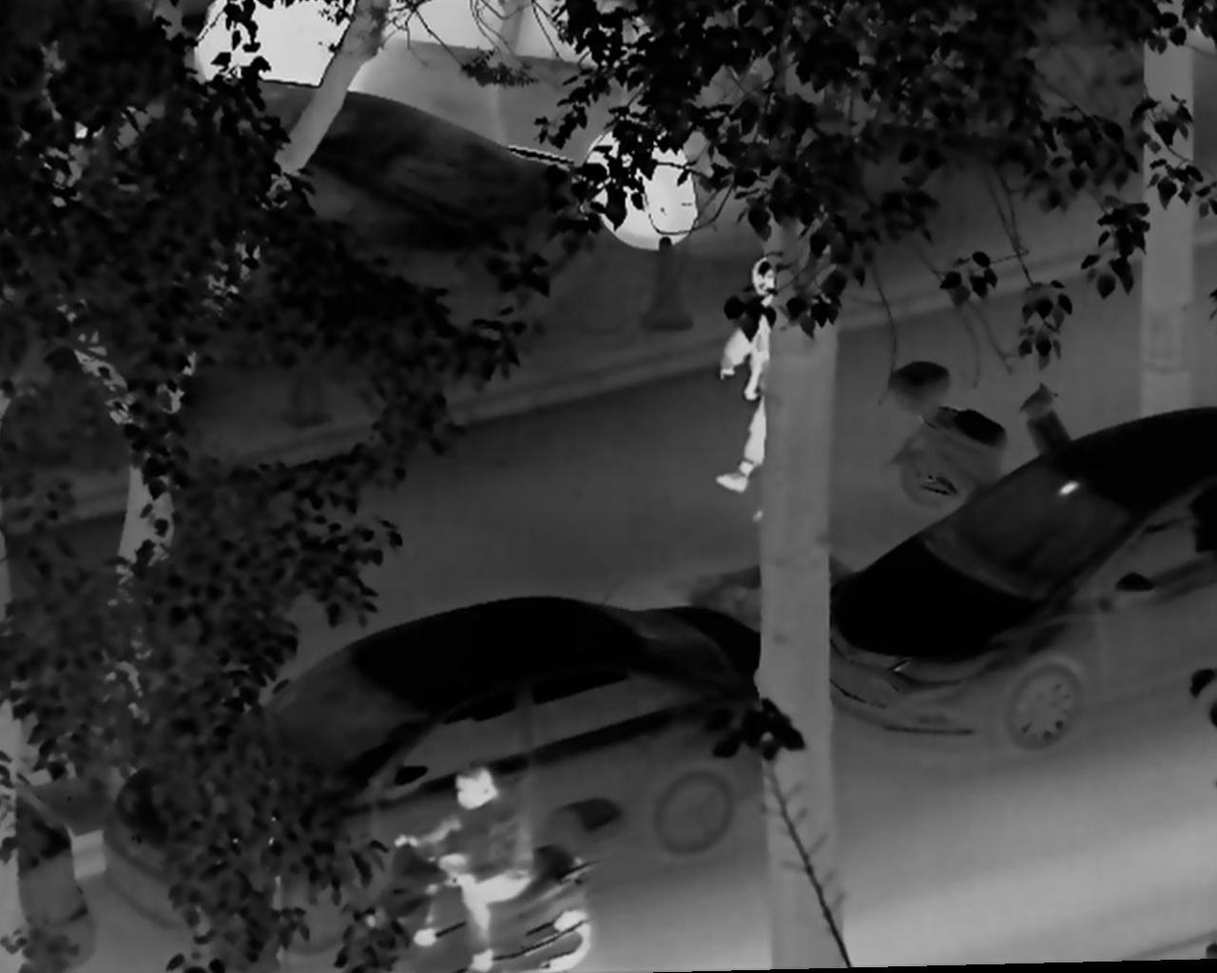person: (397, 758, 531, 973), (714, 256, 782, 525), (743, 280, 799, 526)
